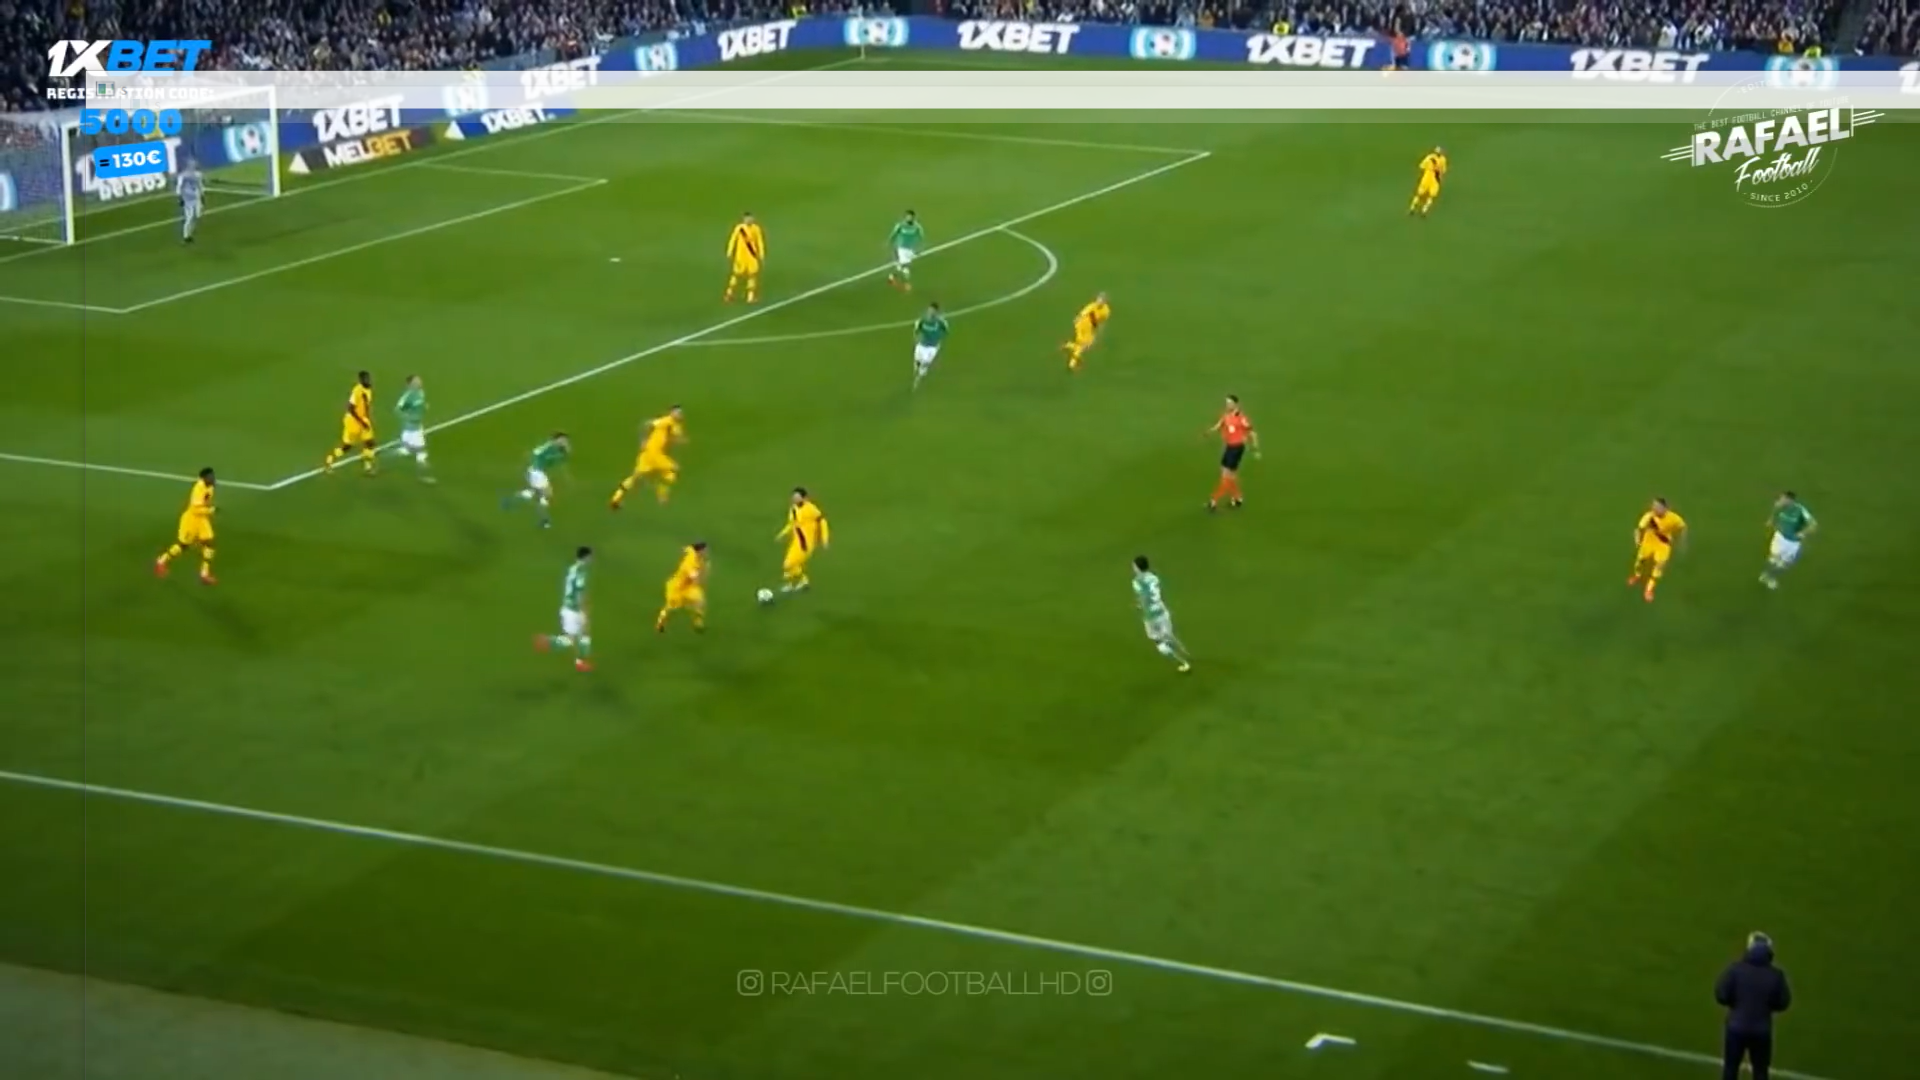ft: (756, 585, 774, 607)
